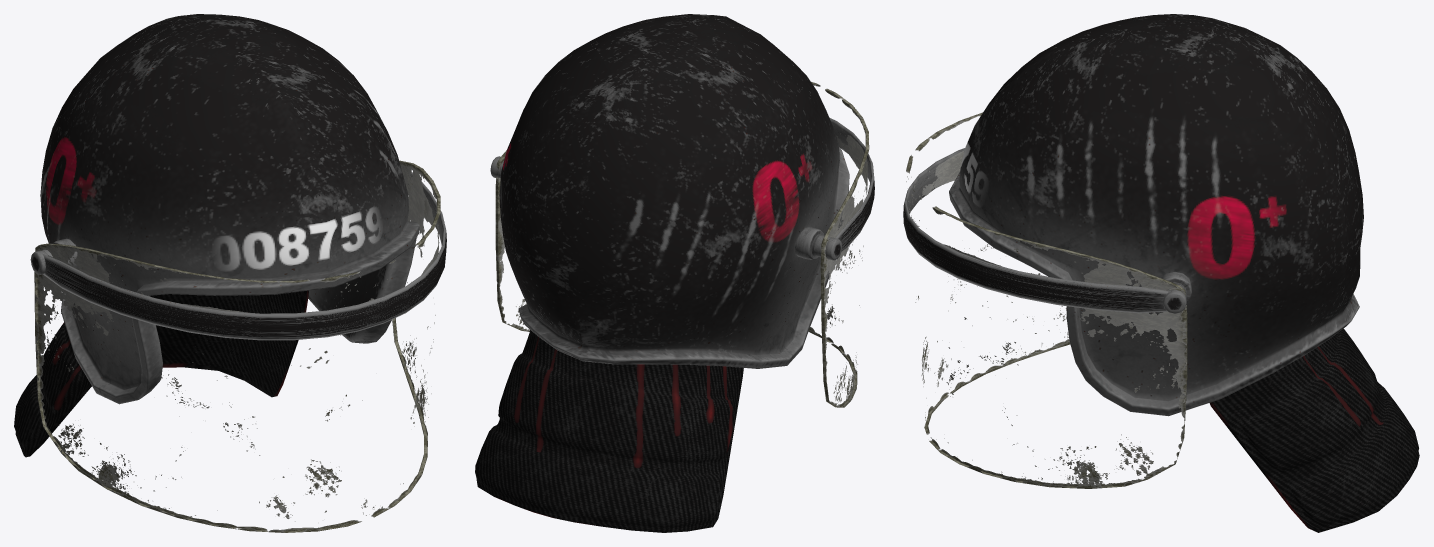
File: Helmet_Texture.fbx
3 views of the same model, side by side, from view 1: azimuth 30°, elevation 25°; view 2: azimuth 150°, elevation 25°; view 3: azimuth 270°, elevation 25° (orthographic). The views are drawn at different scales.
Parts seen in each view (by area): view 1: polySurface1, pCylinder15, pCylinder4, pCylinder6, pCylinder5; view 2: polySurface1, pCylinder15, pCylinder4, pCylinder6, pCylinder5; view 3: polySurface1, pCylinder15, pCylinder4, pCylinder6, pCylinder2.
Boxes of the visible parts, bbox=[...] form: polySurface1: bbox=[40, 14, 419, 404]; pCylinder15: bbox=[14, 290, 308, 457]; pCylinder4: bbox=[34, 160, 440, 532]; pCylinder6: bbox=[43, 172, 446, 340]; pCylinder5: bbox=[30, 238, 78, 274]; polySurface1: bbox=[499, 14, 849, 368]; pCylinder15: bbox=[475, 330, 743, 532]; pCylinder4: bbox=[495, 82, 869, 407]; pCylinder6: bbox=[829, 117, 874, 251]; pCylinder5: bbox=[795, 227, 842, 260]; polySurface1: bbox=[949, 14, 1363, 416]; pCylinder15: bbox=[1209, 328, 1419, 532]; pCylinder4: bbox=[906, 112, 1187, 488]; pCylinder6: bbox=[903, 148, 1170, 313]; pCylinder2: bbox=[1161, 272, 1191, 313].
Bounding box in the file's own units: 93.45 × 108 × 114.
